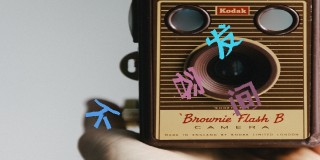不: (85, 98, 120, 130)
发: (205, 22, 244, 59)
容: (173, 67, 206, 99)
间: (227, 81, 261, 115)
